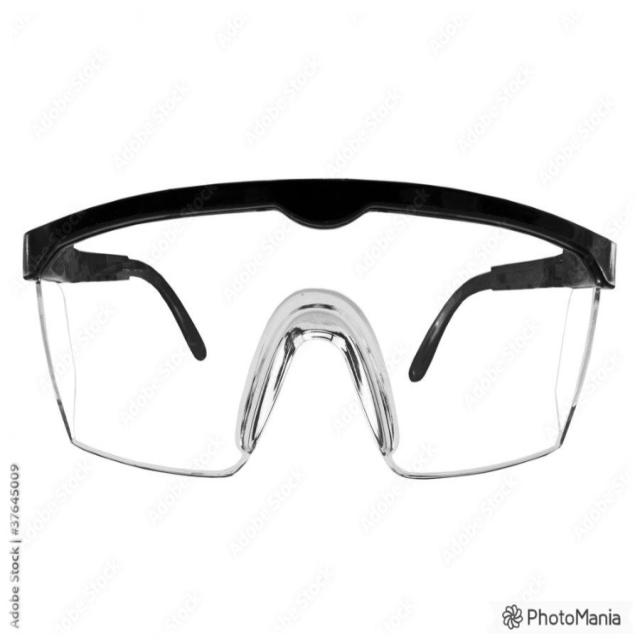Goggles: (16, 170, 623, 487)
